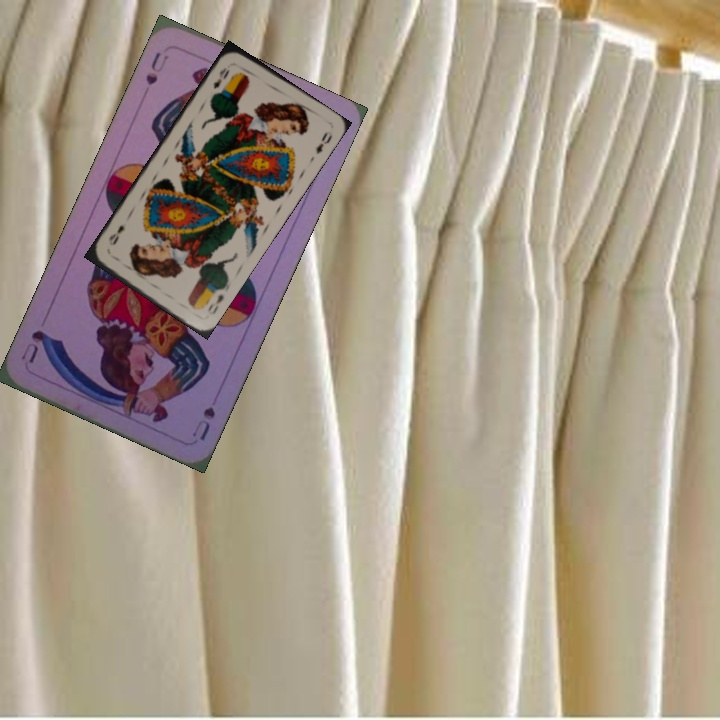EO: (203, 290, 227, 317), (209, 63, 232, 91)
SU: (141, 47, 172, 88), (188, 402, 218, 443)
